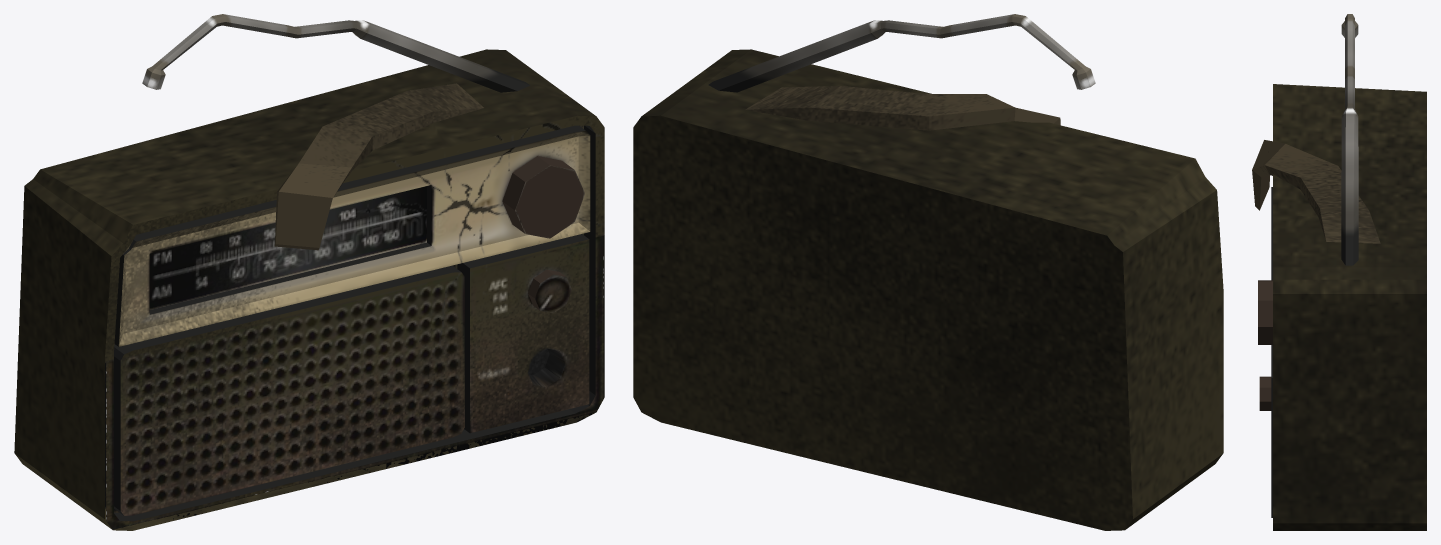
Rendered from Radio.fbx.
3 views of the same model, side by side, from view 1: azimuth 30°, elevation 25°; view 2: azimuth 150°, elevation 25°; view 3: azimuth 270°, elevation 25° (orthographic). The views are drawn at different scales.
Parts seen in each view (by area): view 1: Cube; view 2: Cube; view 3: Cube.
Part boxes in pixels (left/top/right/bottom): Cube: left=14, top=14, right=604, bottom=530; Cube: left=633, top=14, right=1223, bottom=530; Cube: left=1252, top=14, right=1426, bottom=530.
Bounding box in the file's own units: 316 × 272 × 113.
